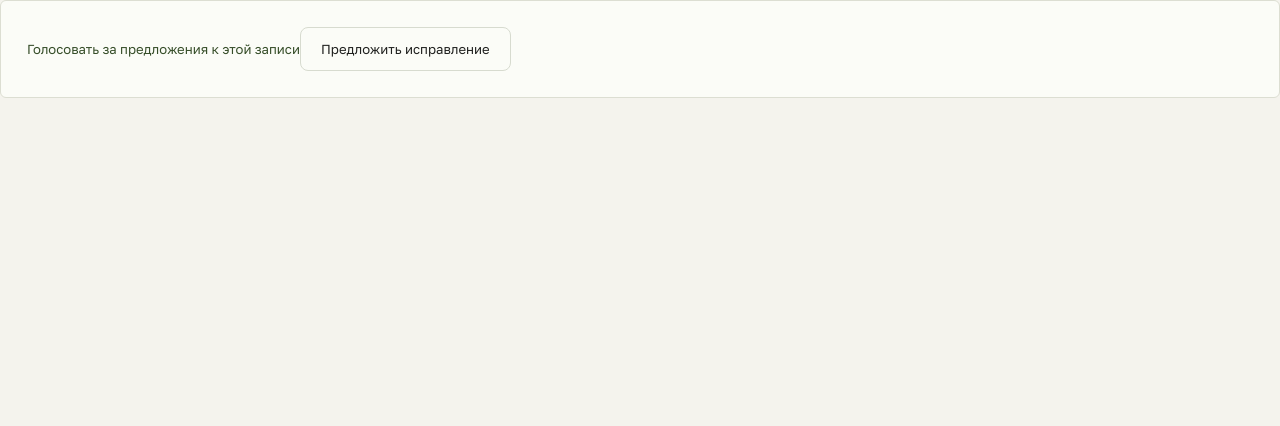
it: lets a newcomer propose lyrics and genres without an experience gate
Click the button "Предложить исправление".
click(405, 49)  # box [300,27,511,71]
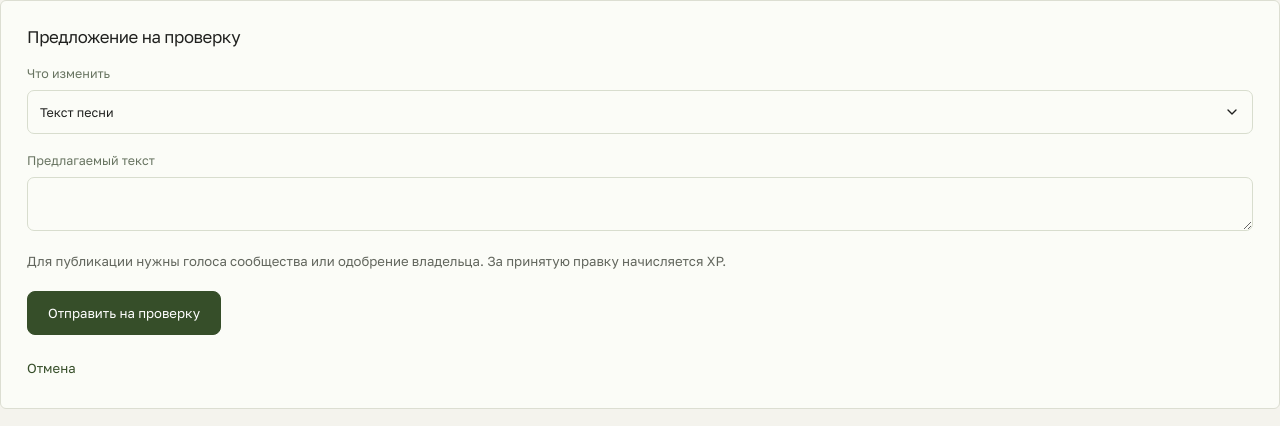
Click the dropdown named "Что изменить".
click(77, 112)  # box [27,90,1253,134]
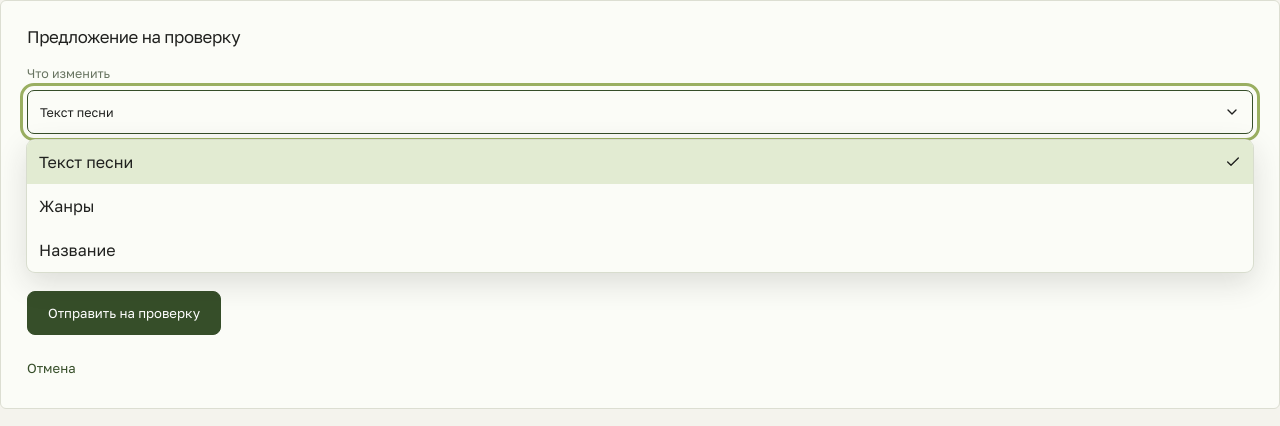
Expected: the option "Текст песни" is shown, [27,140,1253,184]
Expected: the option "Жанры" is shown, [39,196,94,216]
Expected: the option "Название" is shown, [39,240,116,260]
